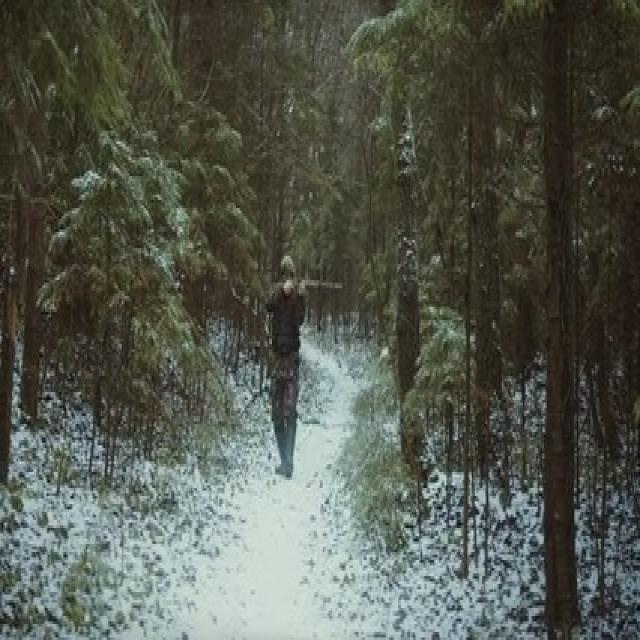Gun_Holder: (280, 273, 348, 304)
Person: (264, 258, 306, 478)
